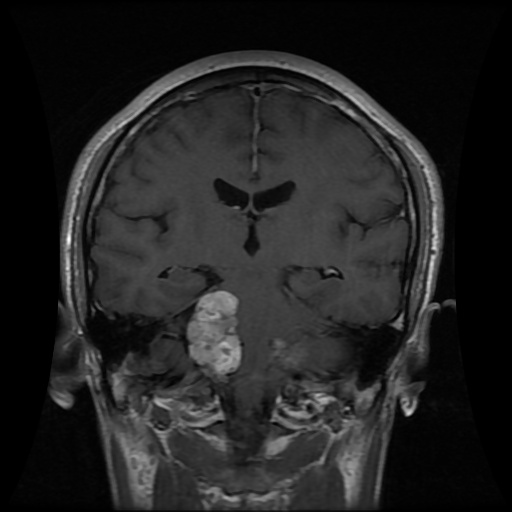meningioma: (186, 288, 244, 373)
